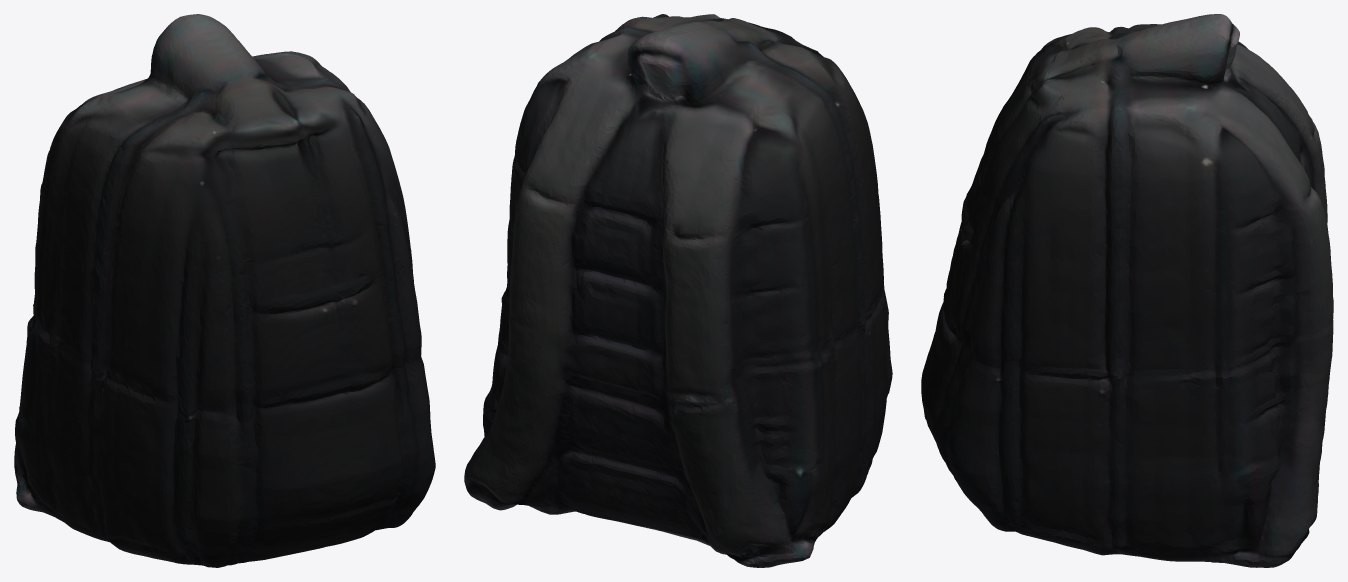
File: kbaary_back_s1.glb
3 views of the same model, side by side, from view 1: azimuth 30°, elevation 25°; view 2: azimuth 150°, elevation 25°; view 3: azimuth 270°, elevation 25° (orthographic). The views are drawn at different scales.
Visible parts, largest first — view 1: world; view 2: world; view 3: world.
Part boxes in pixels (x1=…): world: x1=14, y1=14, x2=435, y2=567; world: x1=464, y1=14, x2=892, y2=567; world: x1=921, y1=14, x2=1333, y2=567.
Bounding box in the file's own units: 0.5915 × 0.8338 × 0.6485.
1 material, 1 textured.
